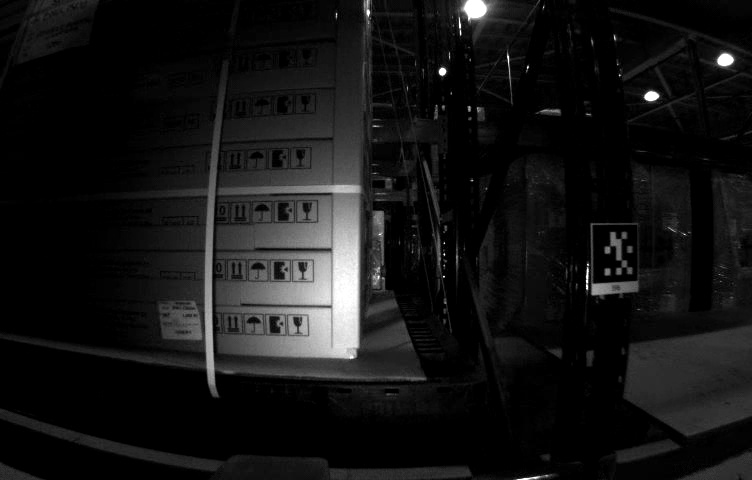True Barcode: (157, 301, 202, 340)
